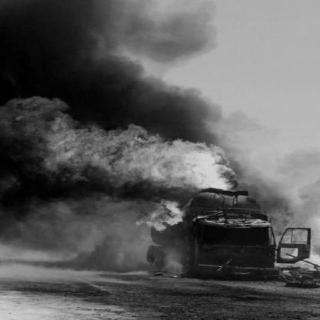Fire: (124, 137, 316, 260)
Smoke: (6, 5, 242, 189)
